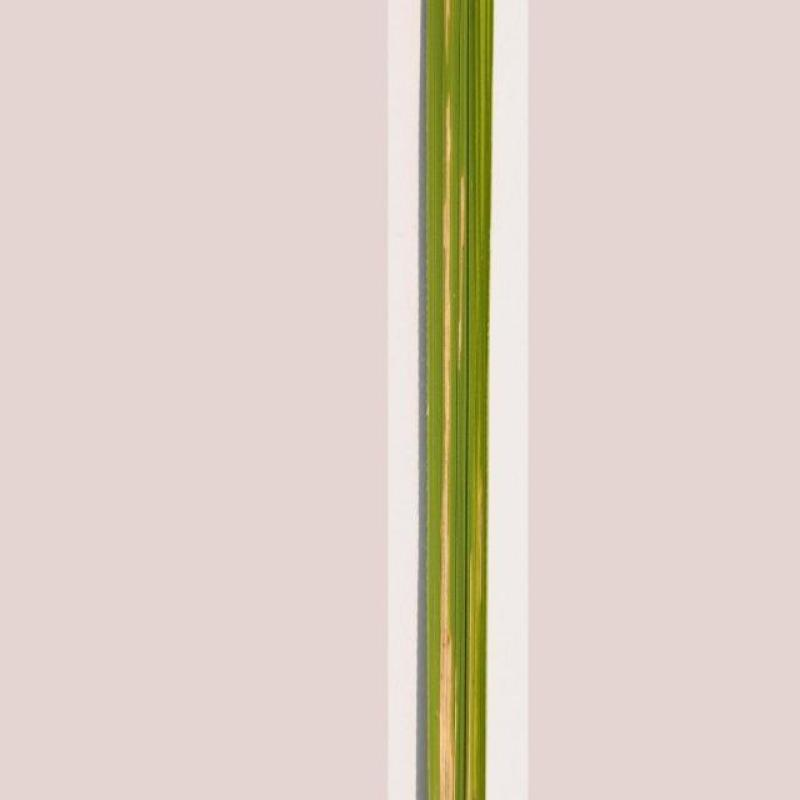Bacterial_Leaf_Blight: (420, 7, 496, 800)
